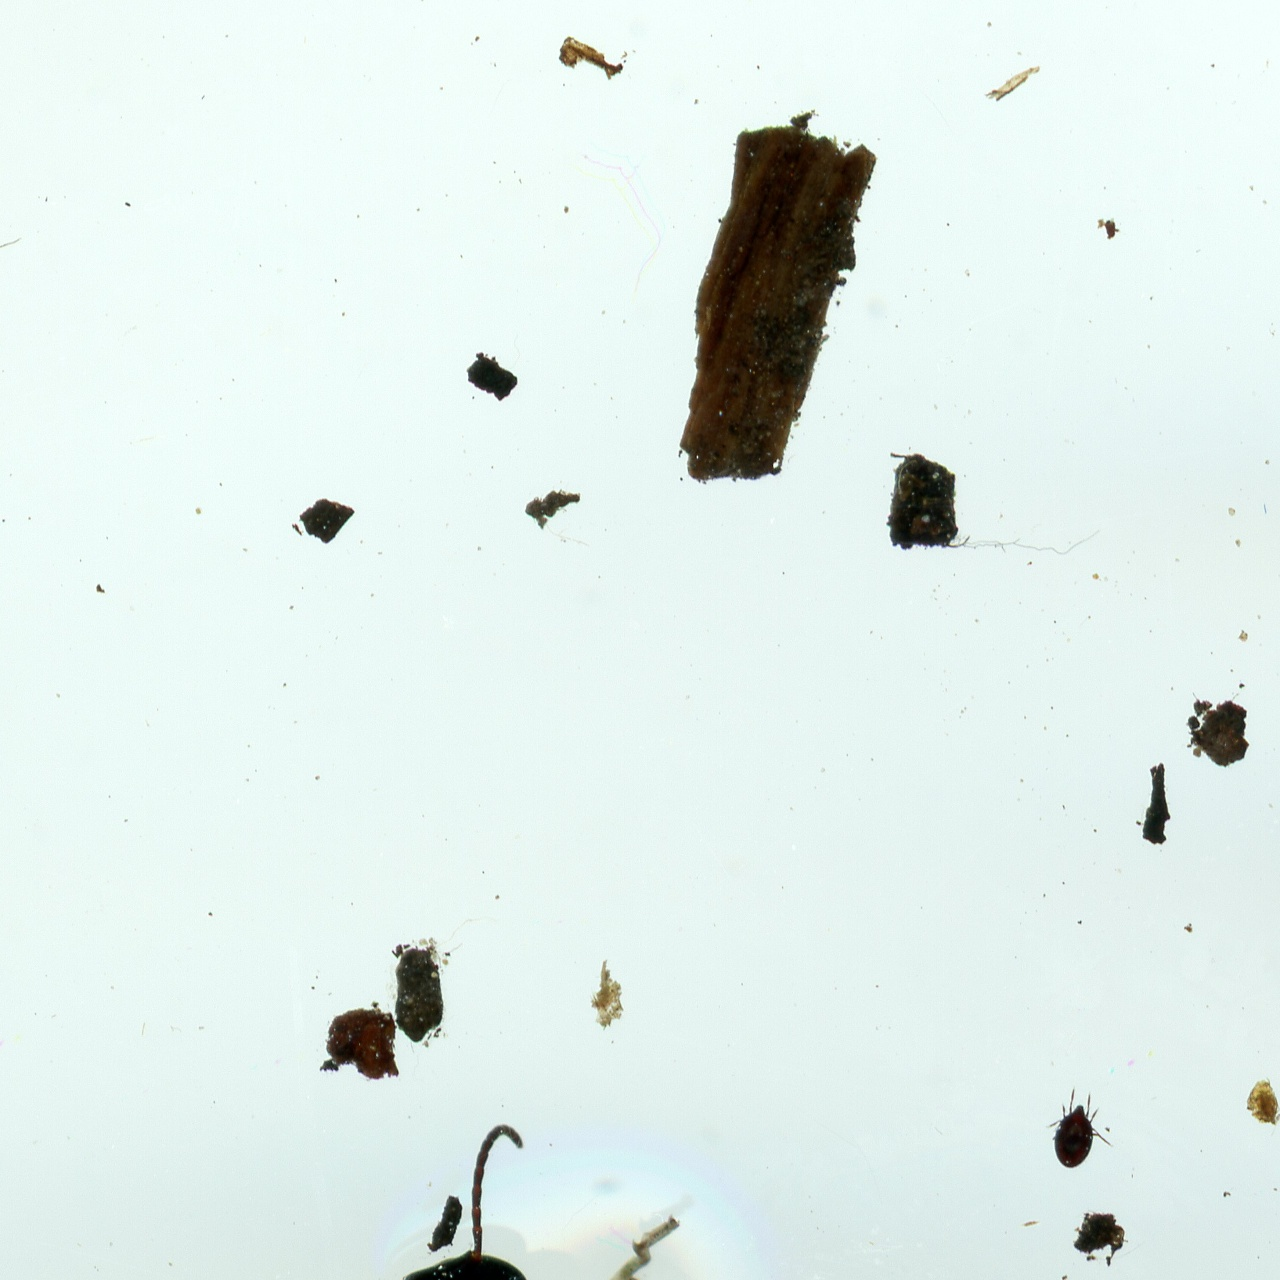arthropod: (277, 1083, 1034, 1280), (1042, 1083, 1116, 1176)
